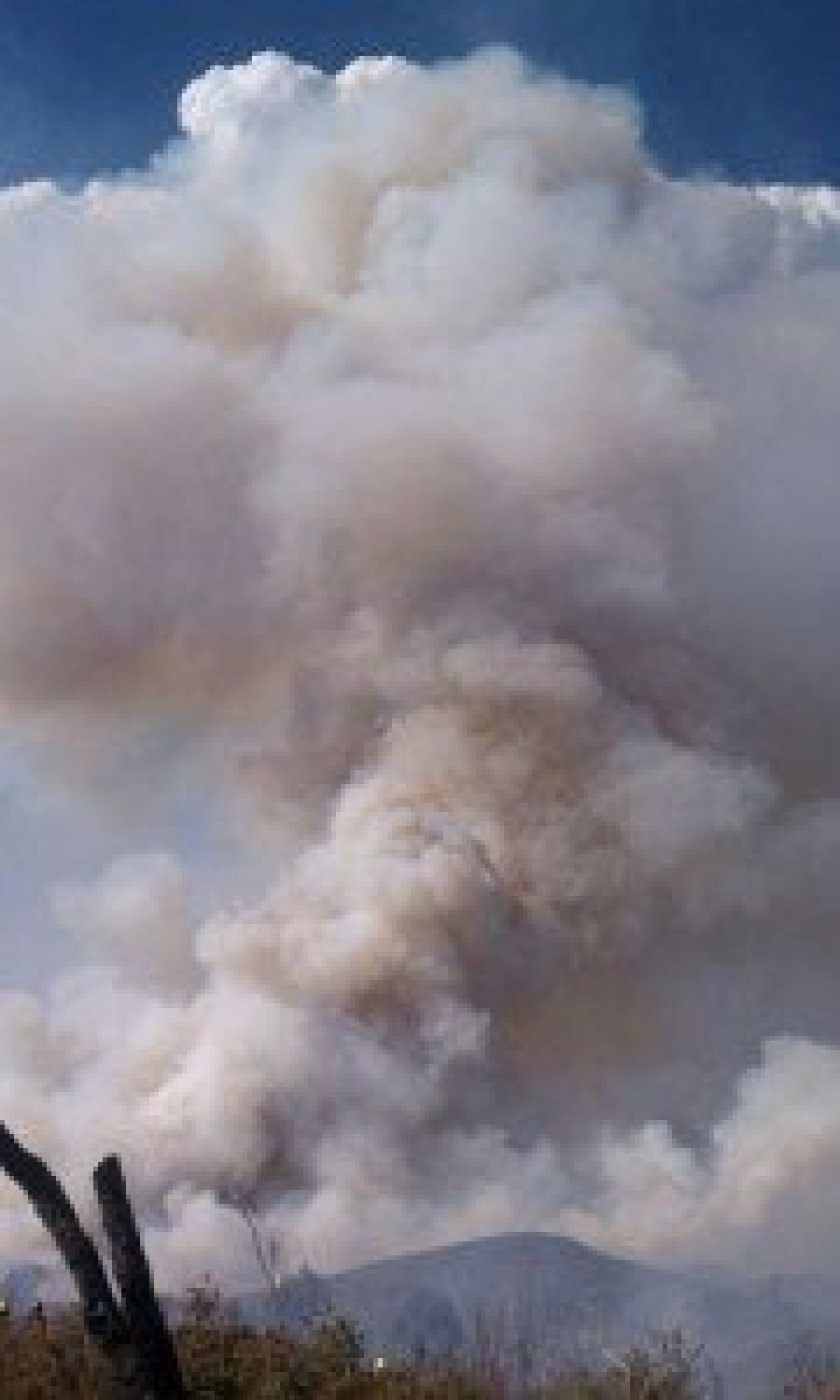smoke: (54, 63, 840, 1261)
